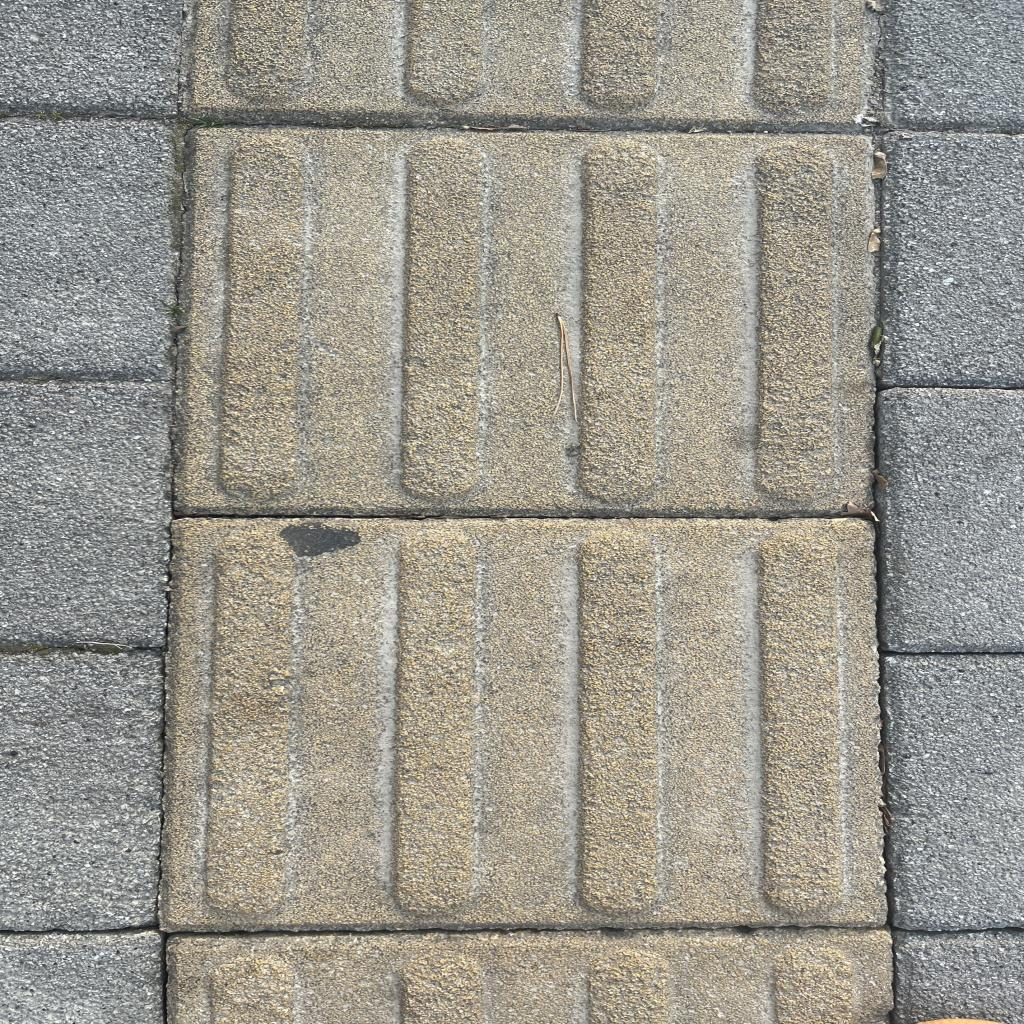Straight block normal: (167, 515, 882, 929)
